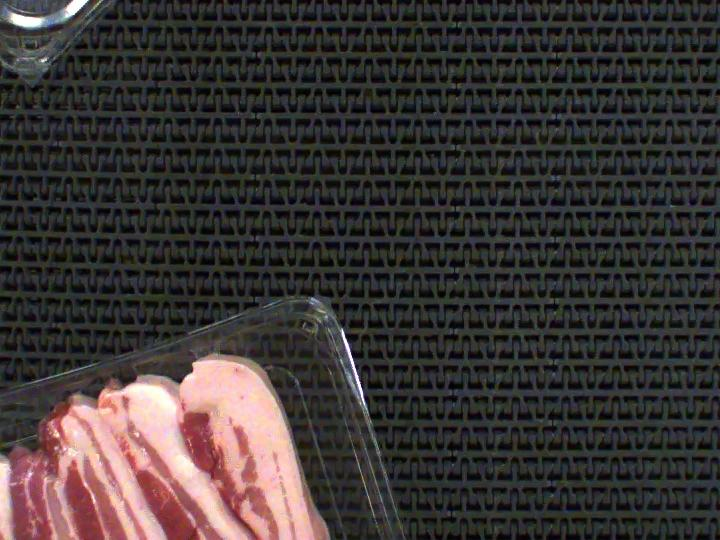packaging-error: (183, 341, 228, 361)
